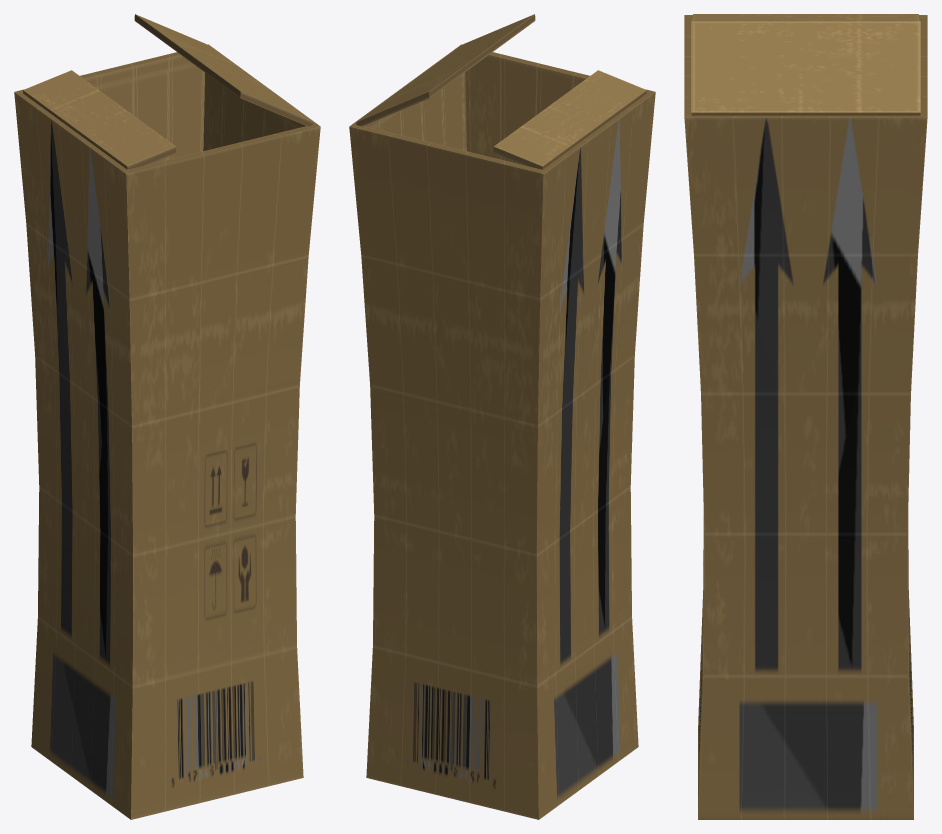
Rendered from carbord box tall.fbx.
The picture shows the model from 3 angles, left to right: view 1: azimuth 30°, elevation 25°; view 2: azimuth 150°, elevation 25°; view 3: azimuth 270°, elevation 25°; orthographic projection. The views are drawn at different scales.
Visible parts, largest first — view 1: box2, pCube2, pCube1; view 2: box2, pCube2, pCube1; view 3: box2, pCube1, pCube2.
Boxes of the visible parts, box(x1,y1,x2,y2) form: box2: box(14, 44, 320, 819); pCube2: box(23, 70, 176, 169); pCube1: box(134, 14, 313, 126); box2: box(349, 44, 655, 819); pCube2: box(493, 70, 646, 169); pCube1: box(356, 14, 535, 126); box2: box(684, 15, 927, 819); pCube1: box(691, 21, 920, 115); pCube2: box(693, 14, 918, 21).
Bounding box in the file's own units: 47.87 × 166 × 47.87.
